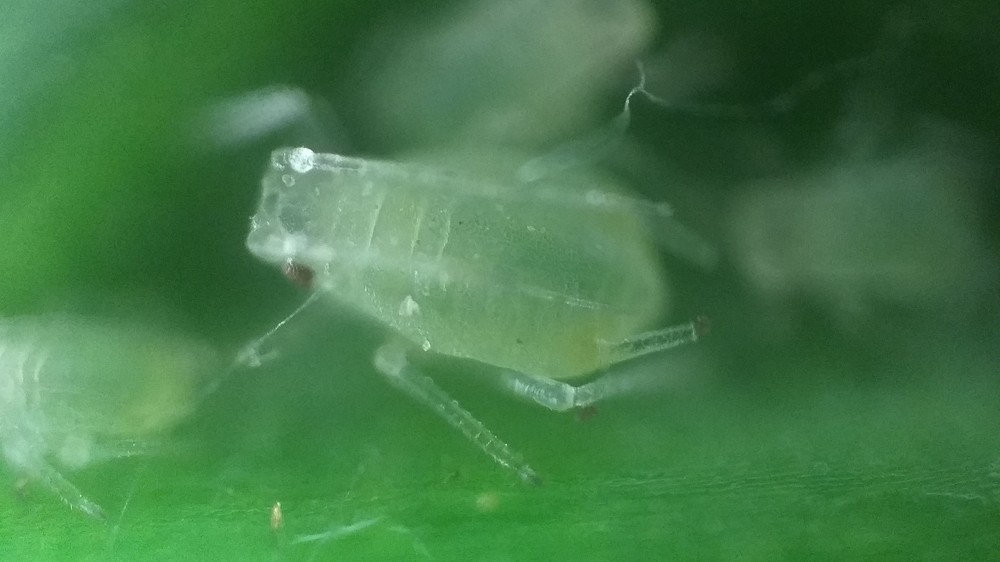Pulgon: (228, 93, 731, 496)
